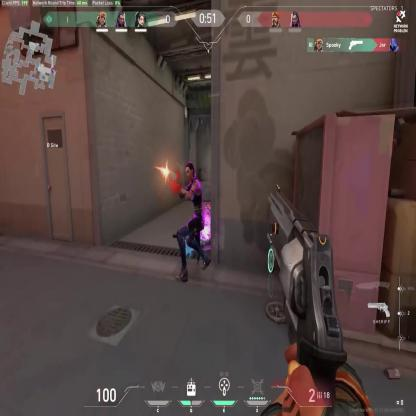enemy: (174, 160, 212, 288)
enemy_head: (184, 161, 194, 182)
